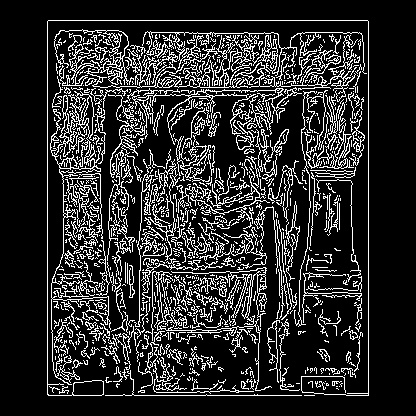buddha-sleeping: (139, 166, 271, 329)
